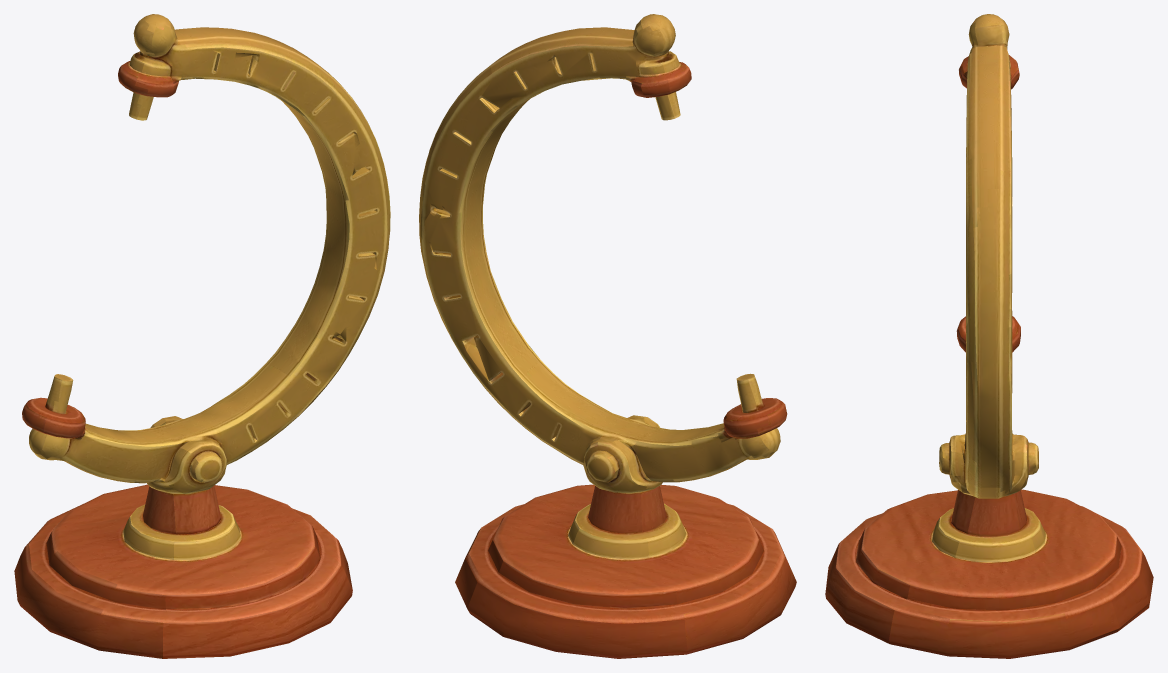
The model's file is kure-standi.glb.
The picture shows the model from 3 angles, left to right: view 1: azimuth 30°, elevation 25°; view 2: azimuth 150°, elevation 25°; view 3: azimuth 270°, elevation 25°; orthographic projection. The views are drawn at different scales.
Visible parts, largest first — view 1: Mesh0; view 2: Mesh0; view 3: Mesh0.
Boxes of the visible parts, x1,y1,x2,y2 form: Mesh0: (14,14,390,658); Mesh0: (419,14,796,658); Mesh0: (825,14,1153,658).
Bounding box in the file's own units: 1.23 × 1.9 × 1.01.
1 material, 1 textured.
